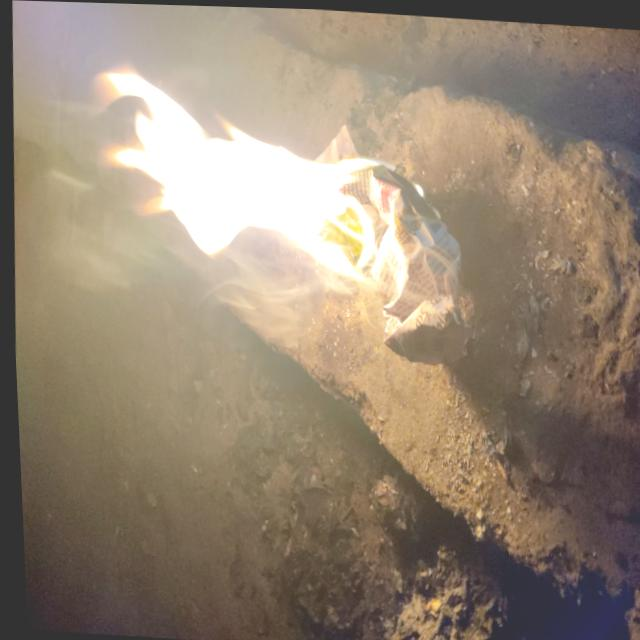Fire: (88, 63, 412, 301)
